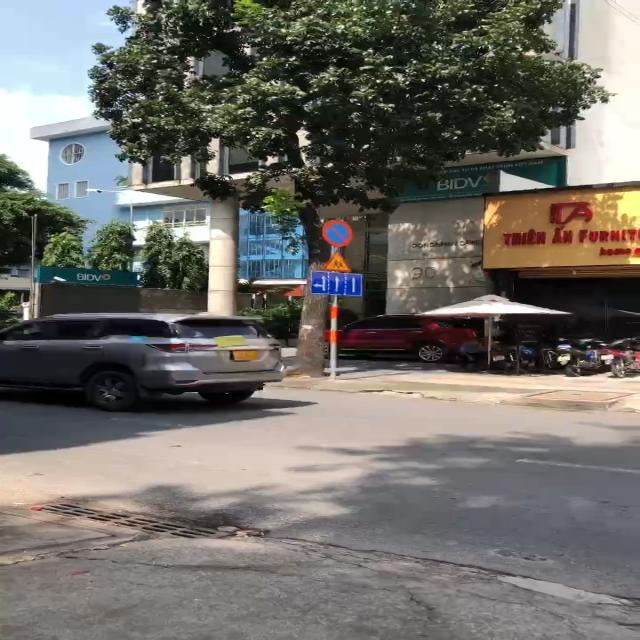Bien bao tre em: (319, 250, 359, 274)
